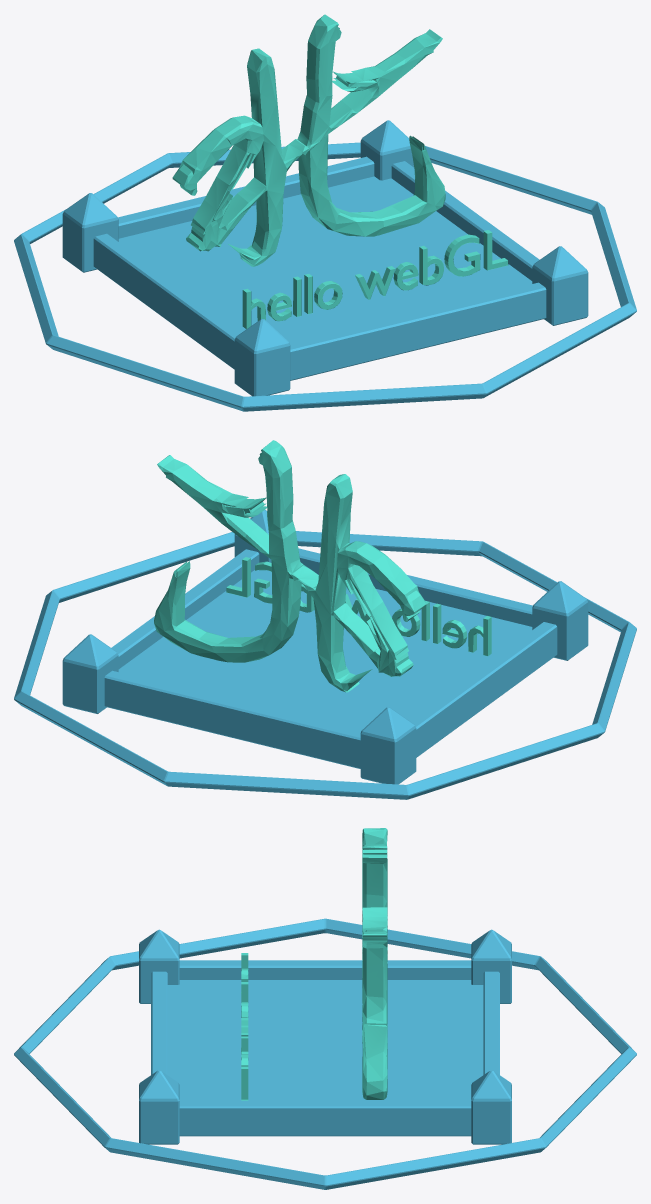
Rendered from hellowebgl4.glb.
3 renders of one model, top to bottom at view 1: azimuth 30°, elevation 25°; view 2: azimuth 150°, elevation 25°; view 3: azimuth 270°, elevation 25°, orthographic. The views are drawn at different scales.
Parts seen in each view (by area): view 1: 立方体, bei, 环体, 文本; view 2: 立方体, bei, 环体, 文本; view 3: 立方体, 环体, bei, 文本.
Part boxes in pixels (x1=…): 立方体: x1=62, y1=120, x2=588, y2=396; bei: x1=172, y1=14, x2=445, y2=266; 环体: x1=14, y1=142, x2=636, y2=411; 文本: x1=242, y1=230, x2=508, y2=328; 立方体: x1=62, y1=510, x2=588, y2=784; bei: x1=154, y1=440, x2=426, y2=692; 环体: x1=14, y1=531, x2=636, y2=799; 文本: x1=226, y1=557, x2=491, y2=656; 立方体: x1=139, y1=929, x2=511, y2=1144; 环体: x1=14, y1=918, x2=636, y2=1189; bei: x1=362, y1=828, x2=387, y2=1099; 文本: x1=241, y1=953, x2=248, y2=1100.
Size of the model in its own units: 3.75 by 1.56 by 3.75.
